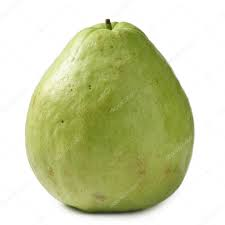guava: (37, 5, 223, 181)
